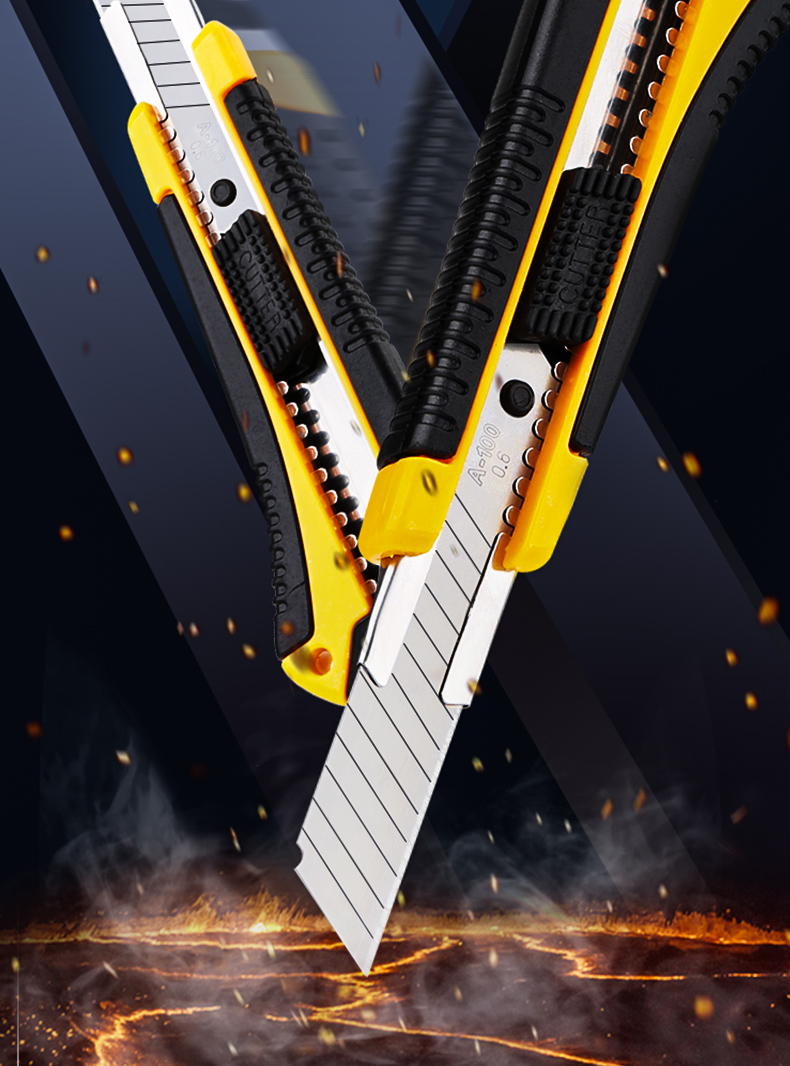cutter: (292, 1, 782, 982), (86, 1, 410, 710)
